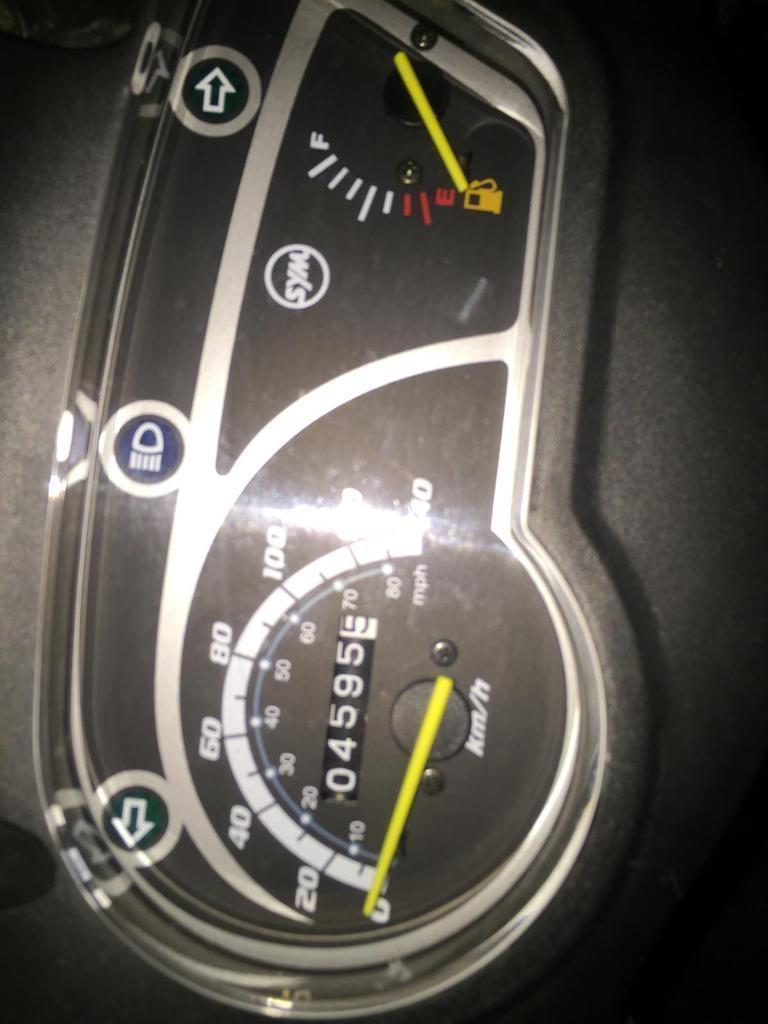0: (324, 766, 357, 793)
4: (326, 736, 357, 762)
5: (328, 702, 357, 730), (335, 640, 365, 667), (340, 612, 369, 633)
9: (332, 673, 364, 698)
odometer: (315, 612, 381, 803)
